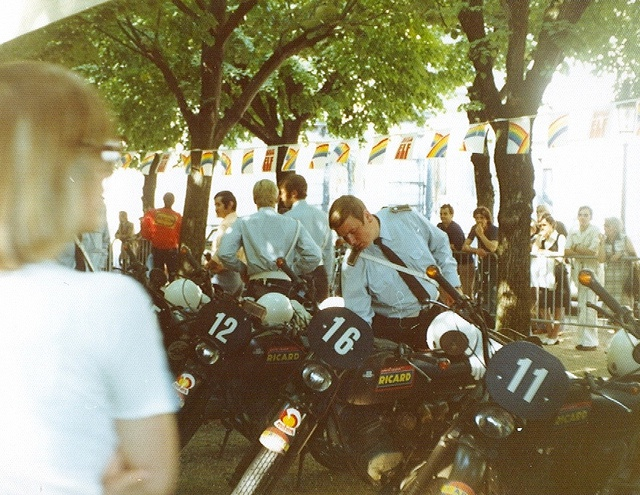non-vehicle: (227, 257, 543, 495), (379, 265, 639, 495), (167, 243, 399, 469)
